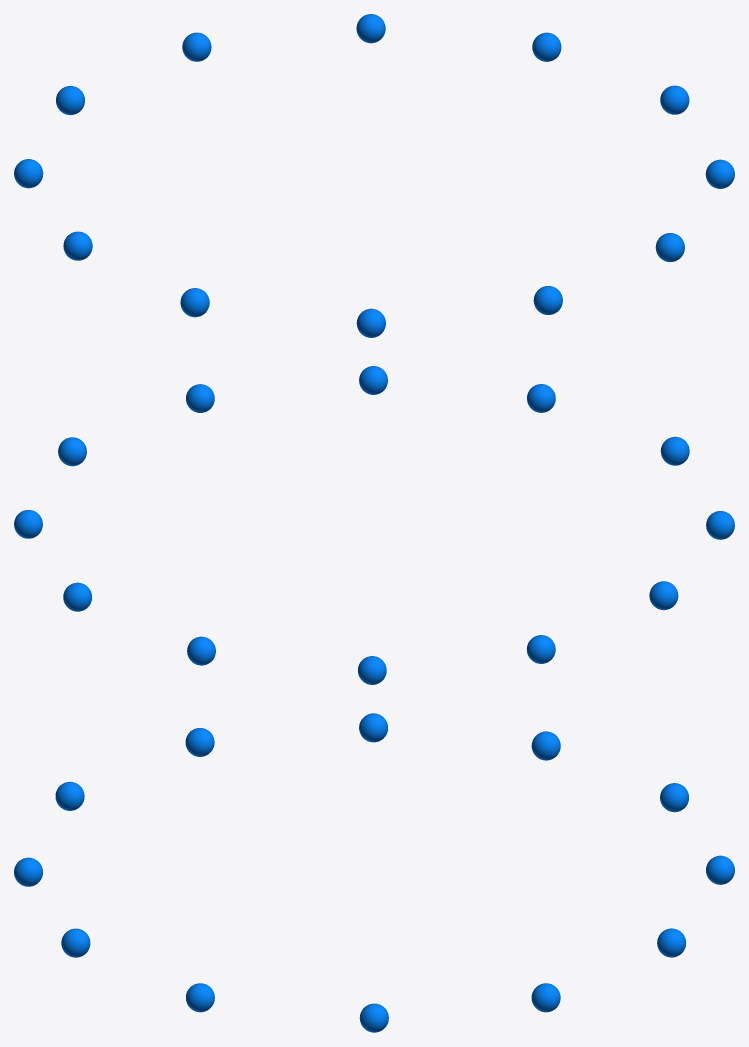
3 renders of one model, top to bottom at view 1: azimuth 30°, elevation 25°; view 2: azimuth 150°, elevation 25°; view 3: azimuth 270°, elevation 25°, orthographic.
Visible parts, largest first — view 1: Sphere052; view 2: Sphere052; view 3: Sphere052.
Part boxes in pixels (box(x1,y1,x2,y2)): Sphere052: box(14, 14, 734, 337); Sphere052: box(14, 366, 734, 684); Sphere052: box(14, 713, 734, 1032).
Bounding box in the file's own units: 202 × 8.22 × 203.
